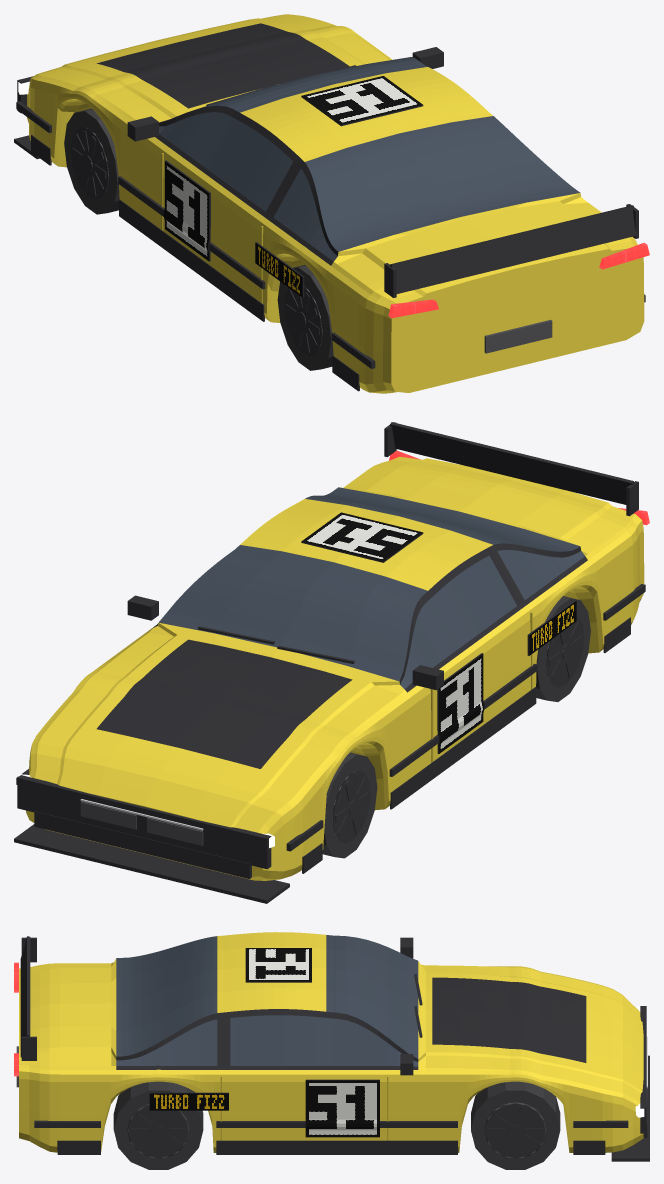
The model's file is cup_camaro.glb.
3 views of the same model, one above another, from view 1: azimuth 30°, elevation 25°; view 2: azimuth 150°, elevation 25°; view 3: azimuth 270°, elevation 25° (orthographic). The views are drawn at different scales.
Parts seen in each view (by area): view 1: body, livery, wheel_FL, wheel_RL; view 2: body, livery, wheel_FL, wheel_RL; view 3: body, livery, wheel_FR, wheel_RR.
Boxes of the visible parts, x1,y1,x2,y2 form: body: [14, 14, 649, 393]; livery: [31, 23, 423, 391]; wheel_FL: [64, 108, 119, 214]; wheel_RL: [277, 265, 333, 370]; body: [14, 422, 649, 903]; livery: [96, 512, 630, 873]; wheel_FL: [322, 752, 377, 858]; wheel_RL: [536, 596, 590, 701]; body: [14, 932, 649, 1161]; livery: [57, 948, 605, 1154]; wheel_FR: [471, 1081, 560, 1169]; wheel_RR: [113, 1081, 203, 1169].
Bounding box in the file's own units: 2.33 × 1.31 × 4.97.
14 materials, 4 textured.
